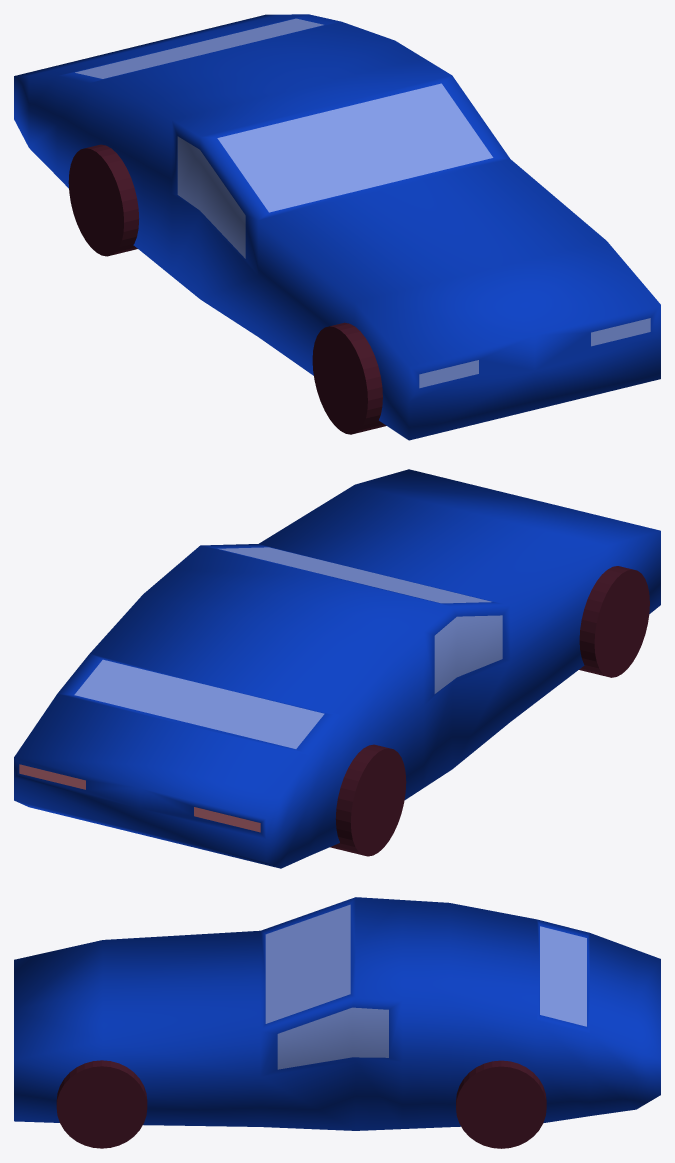
File: CAR_2.fbx
3 views of the same model, one above another, from view 1: azimuth 30°, elevation 25°; view 2: azimuth 150°, elevation 25°; view 3: azimuth 270°, elevation 25° (orthographic). The views are drawn at different scales.
Parts seen in each view (by area): view 1: bodY_CAR2, wheelFR.002, wheelRR.002; view 2: bodY_CAR2, wheelRR.002, wheelFR.002; view 3: bodY_CAR2, wheelFL.002, wheelRL.002.
Part boxes in pixels (x1,y1,x2,y2): bodY_CAR2: [14, 14, 660, 440]; wheelFR.002: [312, 322, 386, 434]; wheelRR.002: [68, 144, 139, 256]; bodY_CAR2: [14, 469, 660, 868]; wheelRR.002: [330, 744, 406, 856]; wheelFR.002: [579, 566, 649, 677]; bodY_CAR2: [14, 897, 660, 1130]; wheelFL.002: [56, 1060, 147, 1148]; wheelRL.002: [456, 1060, 546, 1148].
Size of the model in its own units: 235 by 141 by 570.
